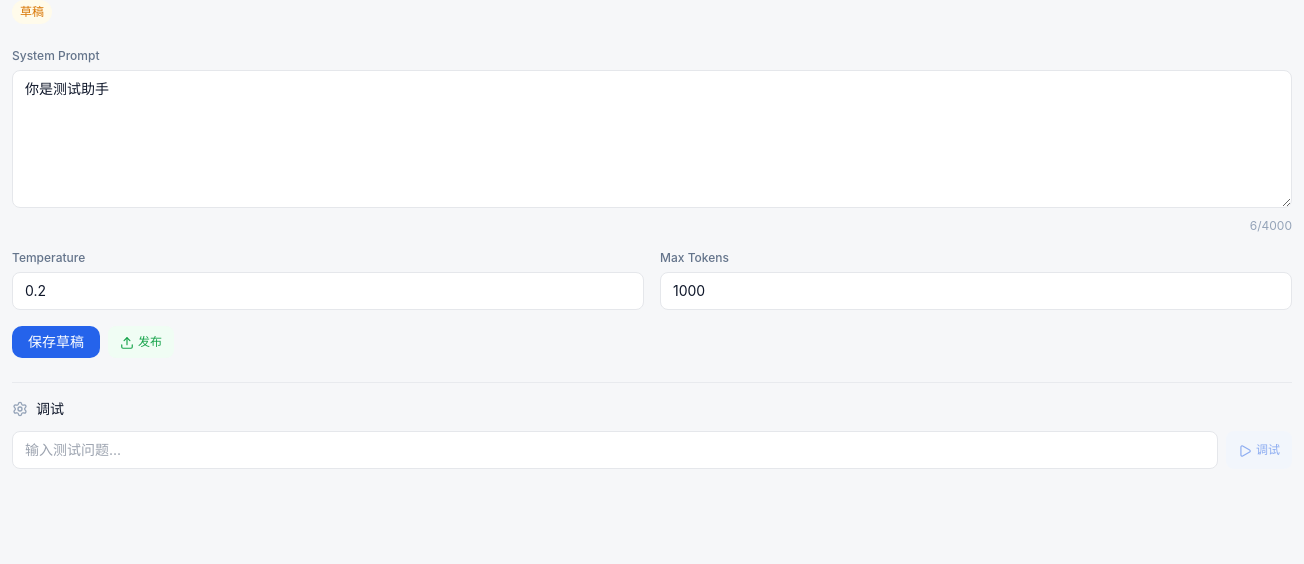
Test case: AgentConfig › 调试结果显示 answer
Type "测试" into the field with placeholder "输入测试问题..." at point(615, 450), box x1=12 y1=431 x2=1218 y2=469
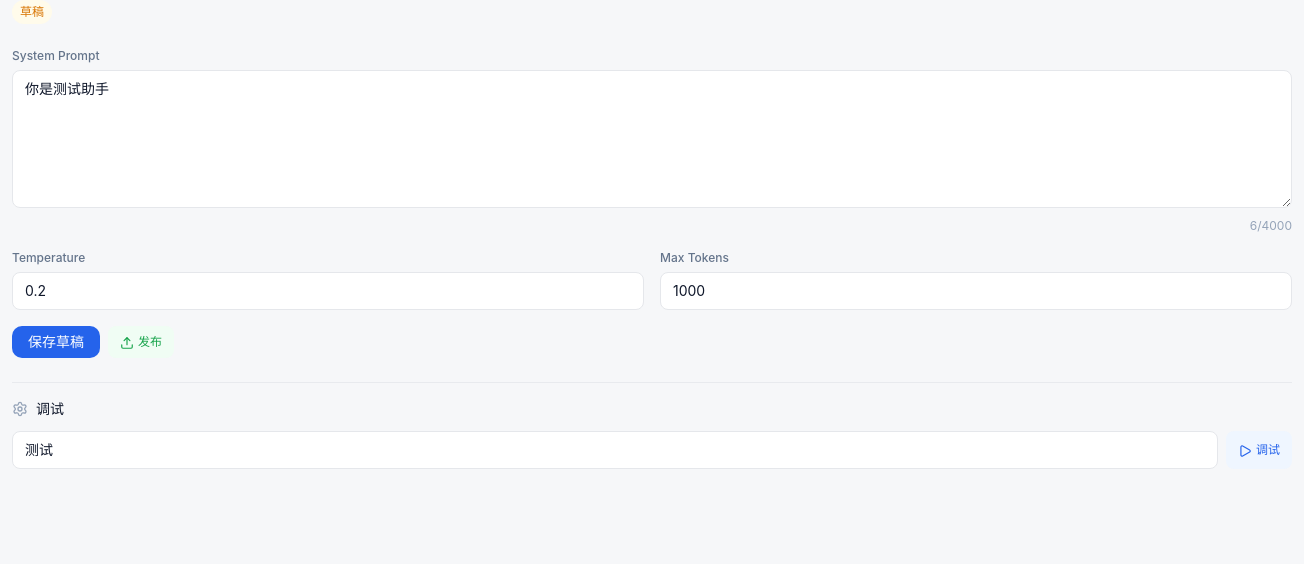
Click the button "调试" at point(1259, 450), box x1=1226 y1=431 x2=1292 y2=469
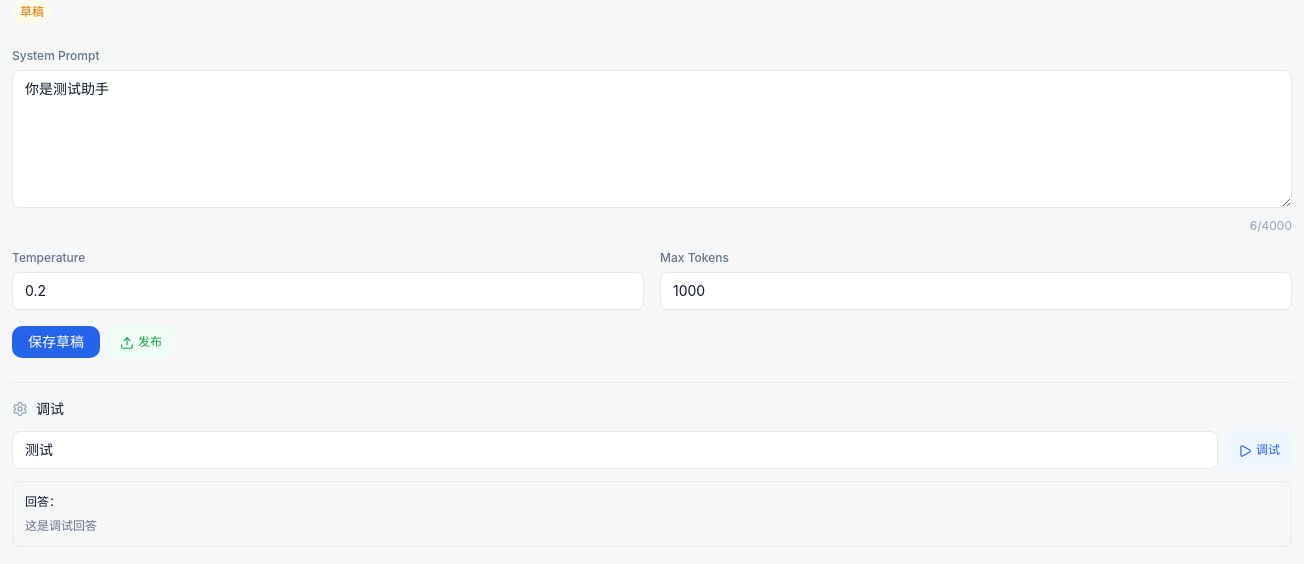
Expected: the text "这是调试回答" is shown, x1=25 y1=518 x2=97 y2=533
